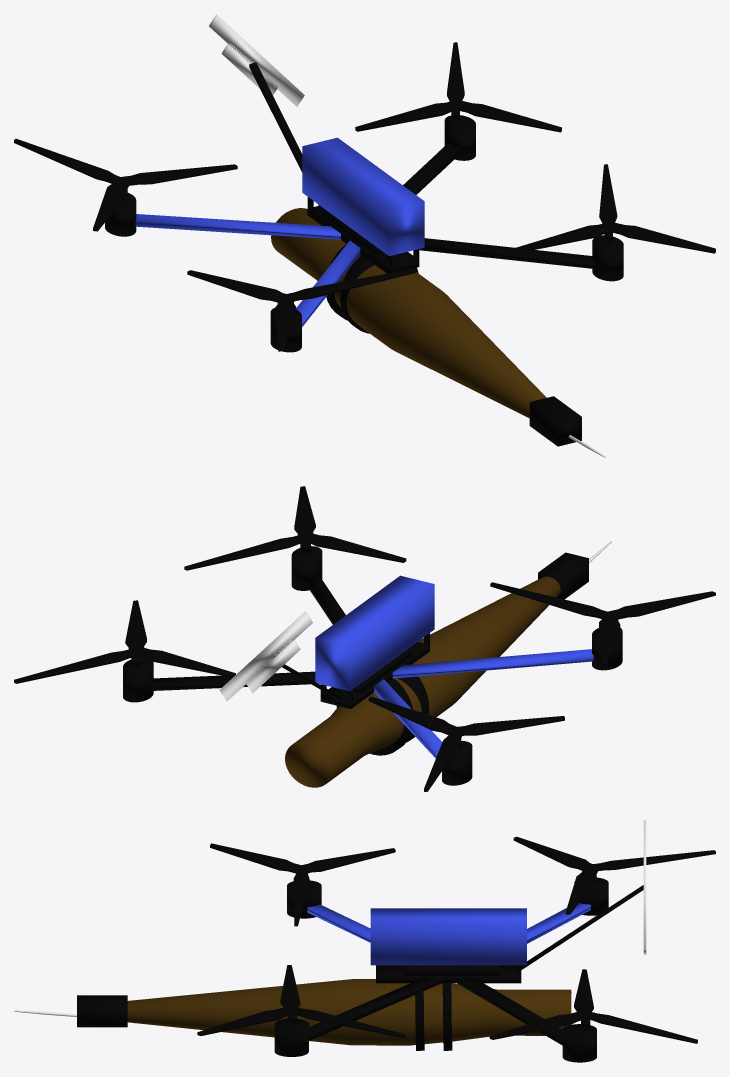
File: droneok4.fbx
The picture shows the model from 3 angles, top to bottom: view 1: azimuth 30°, elevation 25°; view 2: azimuth 150°, elevation 25°; view 3: azimuth 270°, elevation 25°; orthographic projection. The views are drawn at different scales.
Visible parts, largest first — view 1: Cube, Cube.010, Cube.002, Cube.009, Cube.003, Cube.001; view 2: Cube, Cube.010, Cube.002, Cube.003, Cube.001, Cube.009; view 3: Cube, Cube.010, Cube.002, Cube.003, Cube.009, Cube.001.
Part boxes in pixels (x1=…): Cube: x1=105, y1=14, x2=623, y2=352; Cube.010: x1=271, y1=208, x2=605, y2=457; Cube.002: x1=509, y1=164, x2=715, y2=254; Cube.009: x1=14, y1=138, x2=237, y2=231; Cube.003: x1=355, y1=42, x2=561, y2=132; Cube.001: x1=187, y1=269, x2=415, y2=351; Cube: x1=123, y1=546, x2=622, y2=785; Cube.010: x1=285, y1=541, x2=611, y2=787; Cube.002: x1=184, y1=486, x2=406, y2=570; Cube.003: x1=14, y1=600, x2=235, y2=683; Cube.001: x1=490, y1=582, x2=715, y2=665; Cube.009: x1=368, y1=696, x2=564, y2=791; Cube: x1=274, y1=820, x2=646, y2=1062; Cube.010: x1=14, y1=979, x2=571, y2=1045; Cube.002: x1=197, y1=965, x2=405, y2=1038; Cube.003: x1=489, y1=969, x2=697, y2=1043; Cube.009: x1=513, y1=836, x2=715, y2=914; Cube.001: x1=210, y1=843, x2=395, y2=926.
Bounding box in the file's own units: 51.88 × 25 × 75.55.
